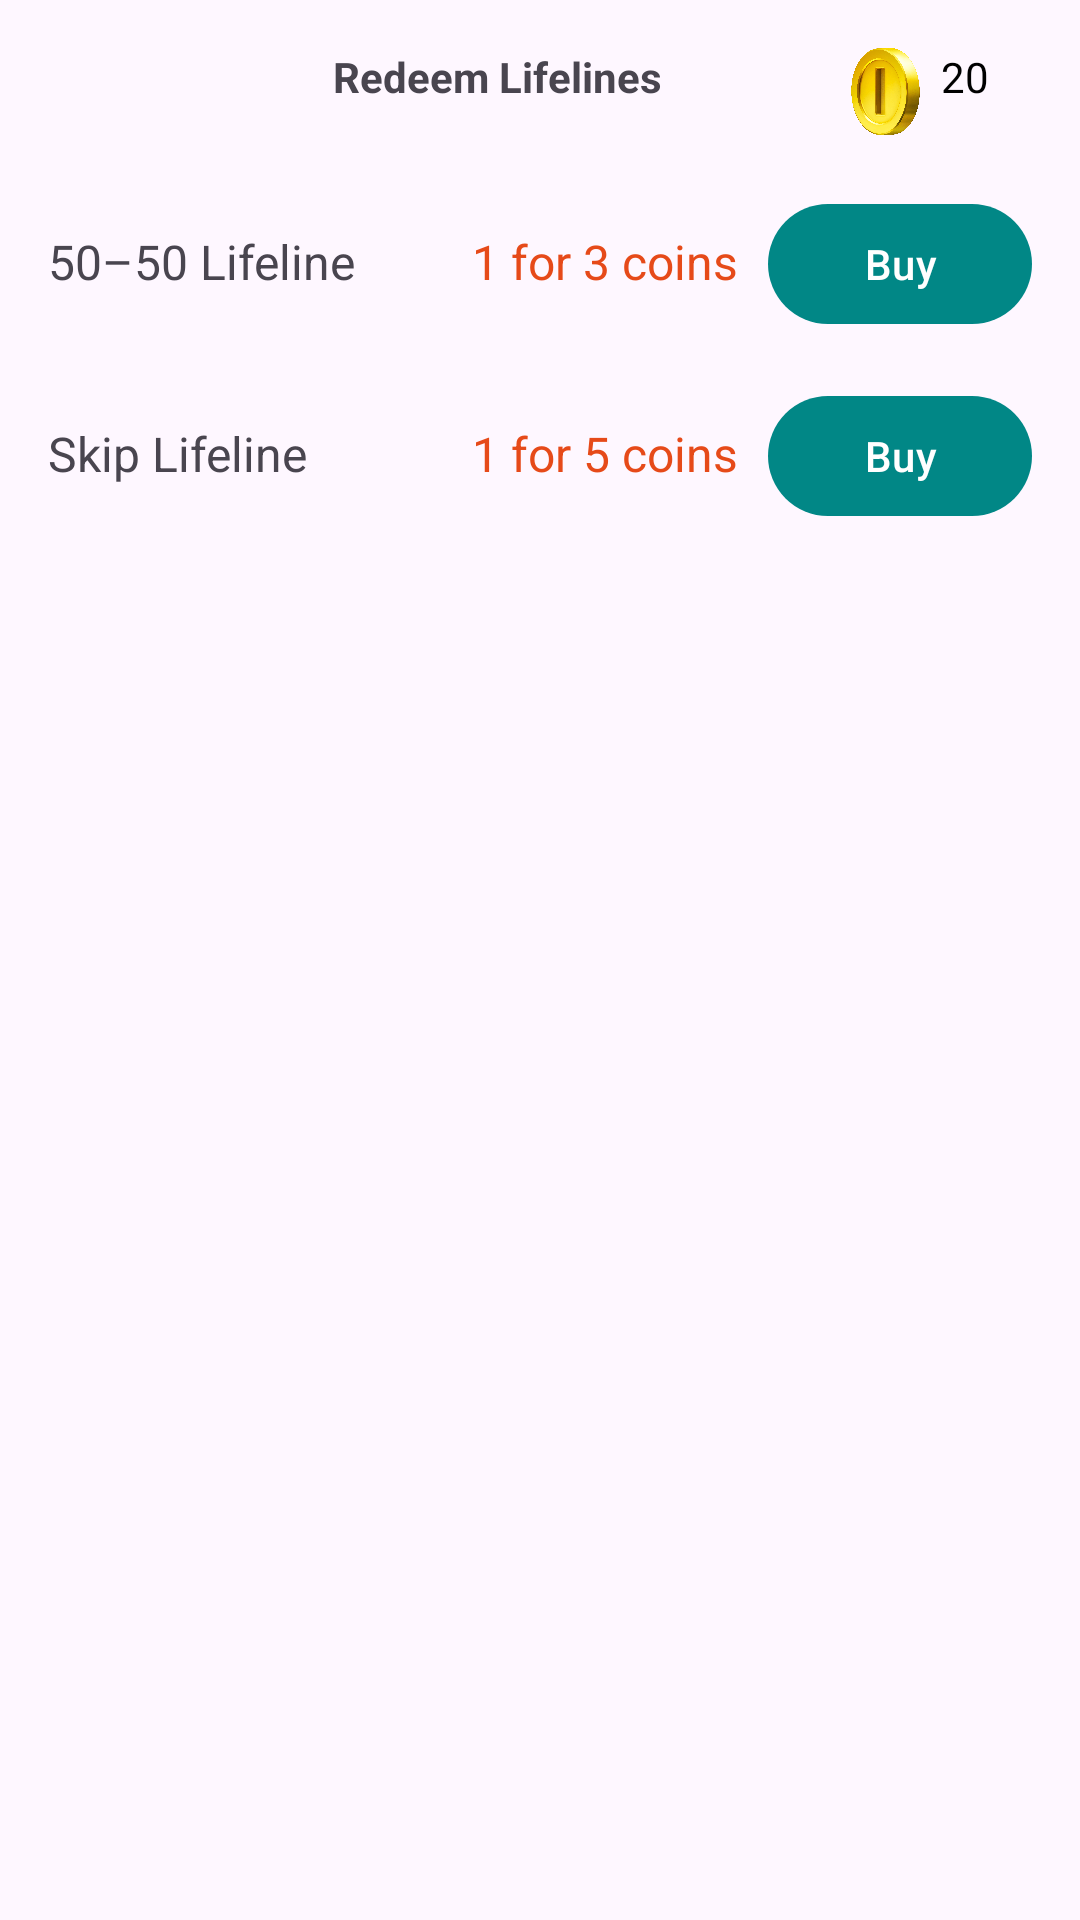

Icons on this 1080w x 1920h Android screen, each with its box as (x1=x1, y1=y1, x2=x2, y2=y2):
Coin Icon: (x1=851, y1=48, x2=920, y2=135)
